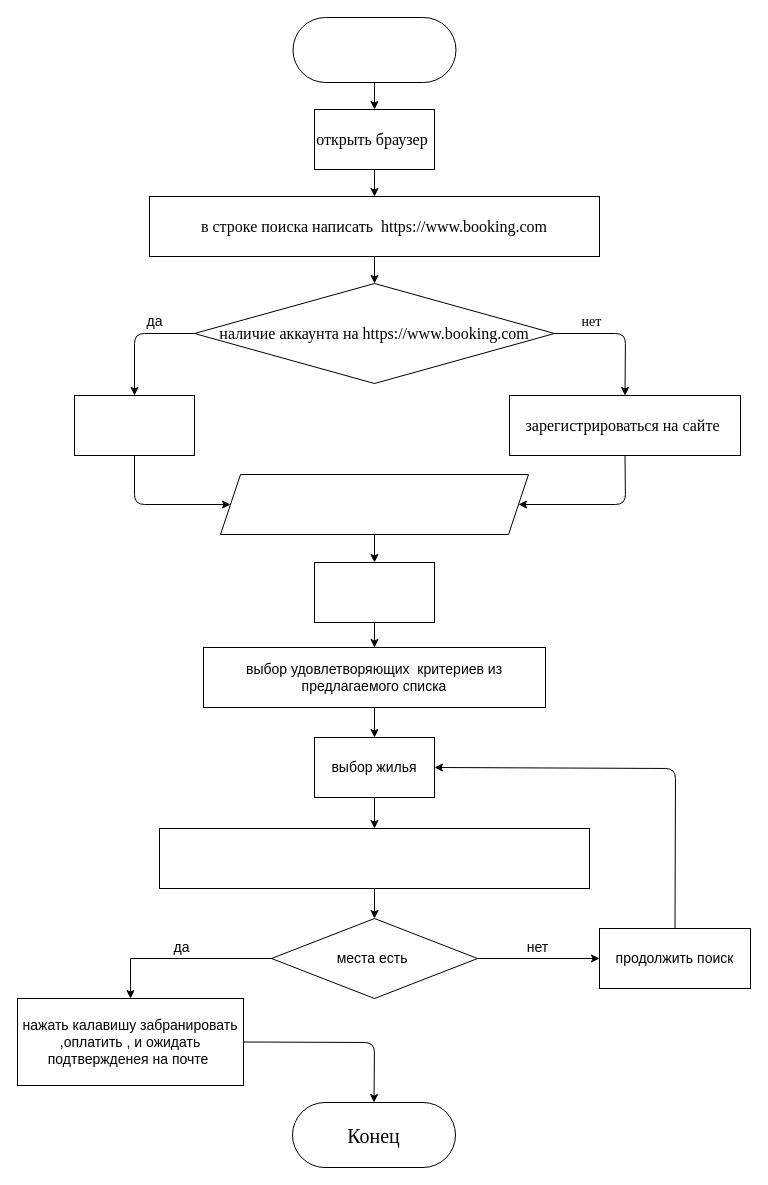
This 768x1185 diagram has some shape labels left out. The centre of each missing label's shape, as x and y in pixels:
Вввод места отдыха ,даты отдыха ,количетсво людей: pixel 374 504
войти в свой аккант: pixel 134 425
нажатие на клавишу "посмотреть наличие мест ": pixel 374 858
нажать проверить цены: pixel 374 592
Начало: pixel 374 49
